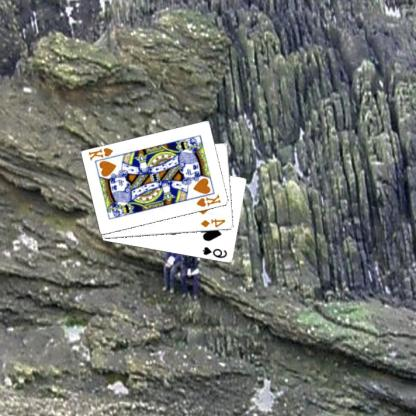4D: (200, 216, 228, 229)
6S: (202, 245, 230, 259)
KH: (88, 145, 116, 162), (196, 192, 224, 208)
